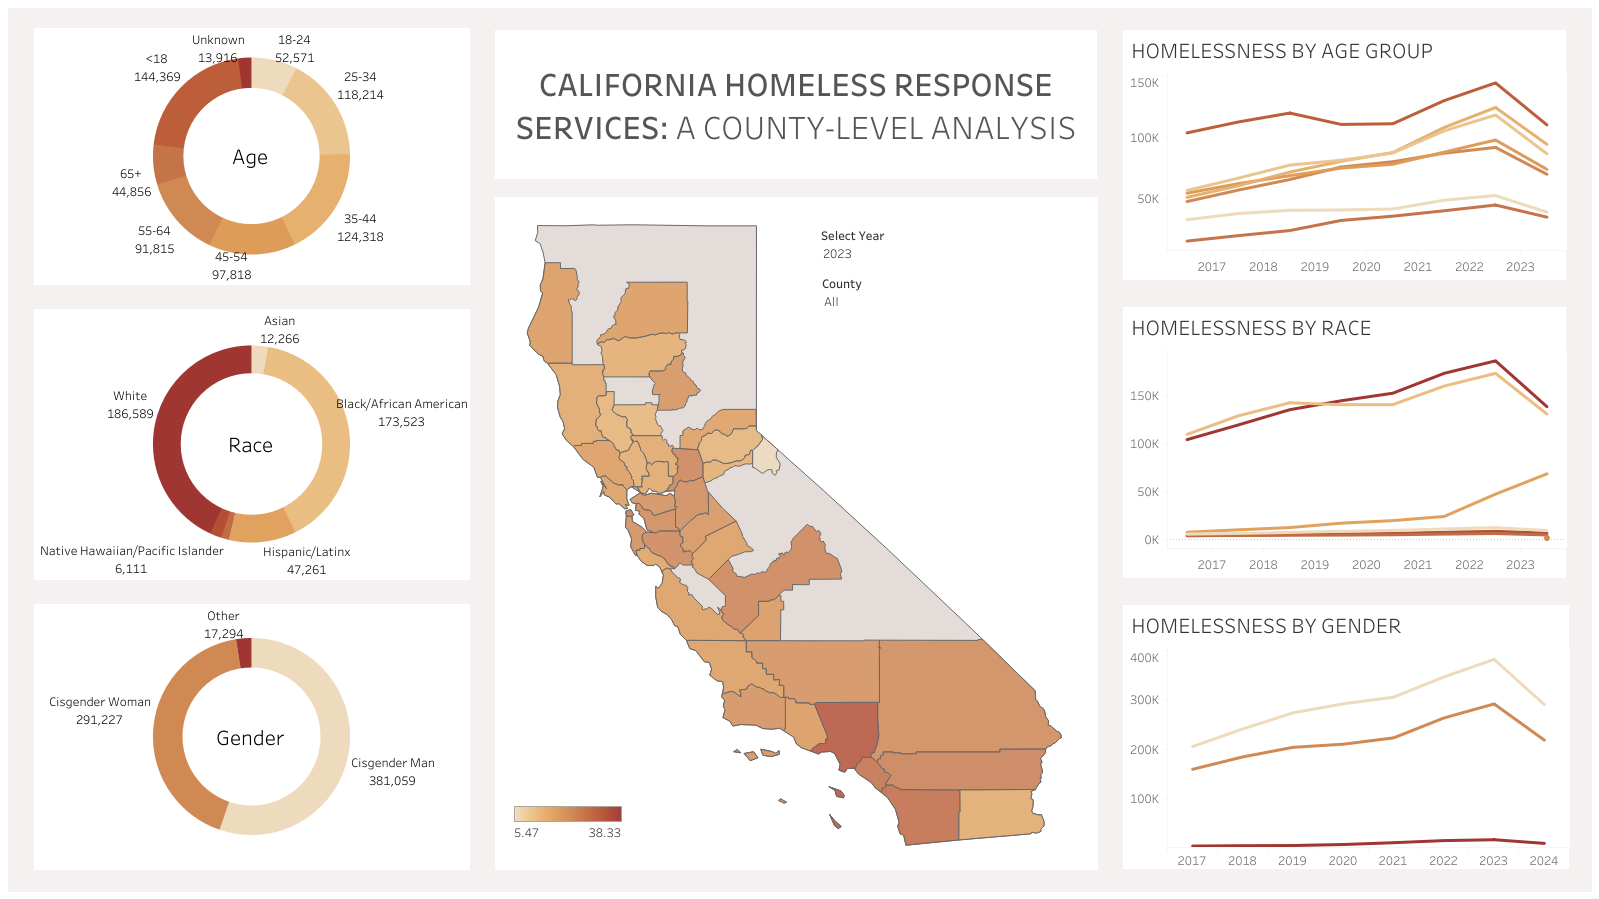

This screenshot's page, from the dashboard's own definition file:
{"tool":"tableau","page":{"name":"Homelessness Dashboard","canvas":[1000,1000],"units":"permille","ordinal":0},"visuals":[{"type":"worksheet","title":"Donut Chart - by Age","mark":"Pie","rows":["Calculation_1168402659354243076","Calculation_1168402659354243076"],"box":[4.2,8.8,296.9,311.9]},{"type":"text","box":[301.2,8.8,393,213.5]},{"type":"worksheet","title":"Line Graph - by Age","mark":"Automatic","rows":["EXPERIENCING_HOMELESSNESS_CNT"],"cols":["CALENDAR_YEAR"],"box":[694.1,8.8,301.6,307.5]},{"type":"worksheet","title":"Map - Homelessness by County","mark":"Multipolygon","box":[301.2,222.3,393,768.8]},{"type":"filter","title":"Map - Homelessness by County","param":"[federated.0p42t8n10lpca11fshqov0r4ukss].[yr:CALENDAR_YEAR:ok]","box":[516.4,269.9,137.8,96.2]},{"type":"worksheet","title":"Line Graph - by Race","mark":"Automatic","rows":["CNT (HMRaces.csv)"],"cols":["CALENDAR_YEAR (HMRaces.csv)"],"box":[694.1,316.4,301.6,331.9]},{"type":"worksheet","title":"Donut Chart - by Race","mark":"Pie","rows":["Calculation_1168402659354243076","Calculation_1168402659354243076"],"box":[4.2,320.8,296.9,328.5]},{"type":"filter","title":"Donut Chart - by Gender","param":"[federated.0p42t8n10lpca11fshqov0r4ukss].[none:COUNTY:nk]","box":[516.4,325.2,136.8,95.1]},{"type":"worksheet","title":"Line Graph - by Gender","mark":"Automatic","rows":["CNT"],"cols":["CALENDAR_YEAR (HMGender.csv)"],"box":[694.1,648.2,301.6,342.9]},{"type":"worksheet","title":"Donut Chart - by Gender","mark":"Pie","rows":["Calculation_1168402659354243076","Calculation_1168402659354243076"],"box":[4.2,649.3,296.9,341.8]},{"type":"legend","title":"Map - Homelessness by County","param":"[federated.0p42t8n10lpca11fshqov0r4ukss].[sum:Calculation_1168402659251892224:qk","box":[325.2,882.7,72.3,66.4]}]}

Visuals, with their boxes on the dashboard's canvas, which has no fixed pixel size, in thousandths of its width and height (x1, y1, x2, y2). These are canvas units, not pixel positions in the 1599x899 screenshot, which may show the page scaled, cropped or inside an application window:
"Donut Chart - by Age" worksheet (Pie marks): select_region(4, 9, 301, 321)
text: select_region(301, 9, 694, 222)
"Line Graph - by Age" worksheet: select_region(694, 9, 996, 316)
"Map - Homelessness by County" worksheet (Multipolygon marks): select_region(301, 222, 694, 991)
"Map - Homelessness by County" filter: select_region(516, 270, 654, 366)
"Line Graph - by Race" worksheet: select_region(694, 316, 996, 648)
"Donut Chart - by Race" worksheet (Pie marks): select_region(4, 321, 301, 649)
"Donut Chart - by Gender" filter: select_region(516, 325, 653, 420)
"Line Graph - by Gender" worksheet: select_region(694, 648, 996, 991)
"Donut Chart - by Gender" worksheet (Pie marks): select_region(4, 649, 301, 991)
"Map - Homelessness by County" legend: select_region(325, 883, 398, 949)
